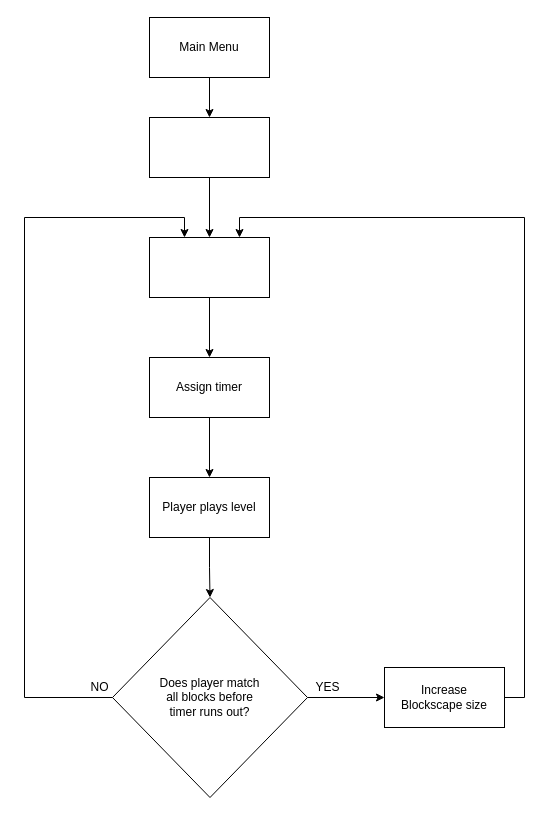
The diagram is 550 pixels wide and 815 high, and some of its shapes have lost their labels. The centre of each missing label's shape, as x and y in pixels:
Begin game: [209,147]
Generate Blockscape: [209,267]
